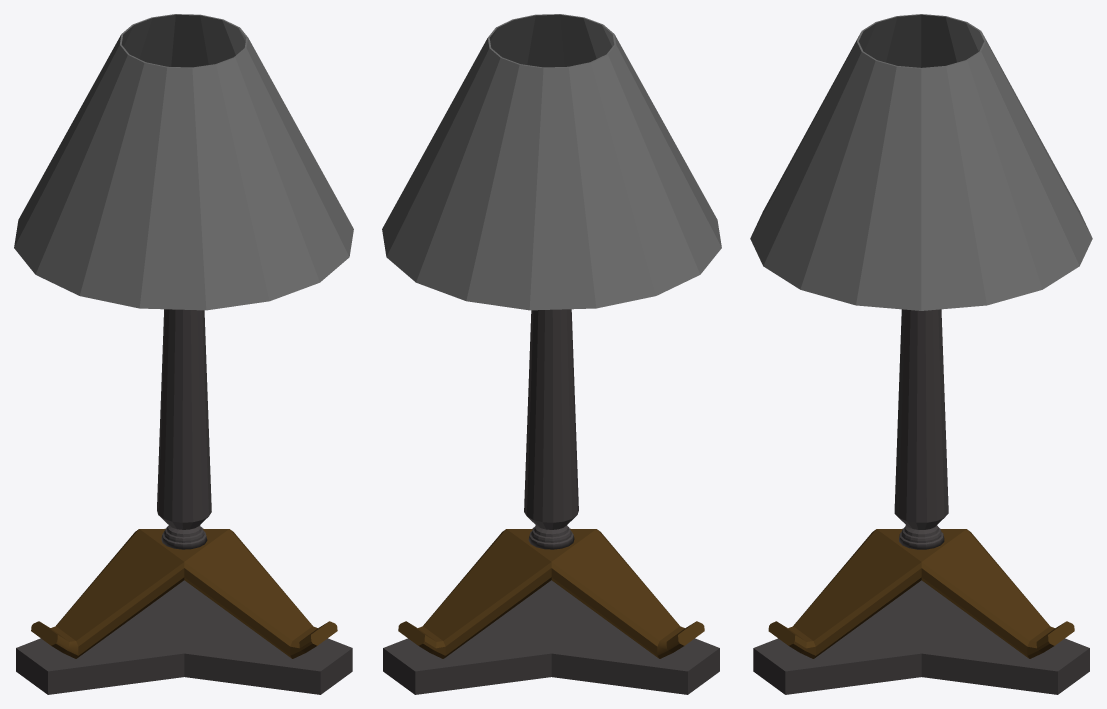
File: SM_TableLamp.fbx
The picture shows the model from 3 angles, left to right: view 1: azimuth 30°, elevation 25°; view 2: azimuth 150°, elevation 25°; view 3: azimuth 270°, elevation 25°; orthographic projection.
Visible parts, largest first — view 1: SM_LampHead_01, SM_LampBase_01, SM_LampBase_02, SM_LampPole_01; view 2: SM_LampHead_01, SM_LampBase_01, SM_LampBase_02, SM_LampPole_01; view 3: SM_LampHead_01, SM_LampBase_01, SM_LampBase_02, SM_LampPole_01.
Part boxes in pixels (<box>): SM_LampHead_01: <box>14,14,353,310</box>; SM_LampBase_01: <box>16,580,352,694</box>; SM_LampBase_02: <box>31,528,337,658</box>; SM_LampPole_01: <box>157,309,211,549</box>; SM_LampHead_01: <box>382,14,721,310</box>; SM_LampBase_01: <box>383,580,719,694</box>; SM_LampBase_02: <box>398,528,704,658</box>; SM_LampPole_01: <box>524,309,578,549</box>; SM_LampHead_01: <box>750,14,1092,310</box>; SM_LampBase_01: <box>753,580,1089,694</box>; SM_LampBase_02: <box>768,528,1074,658</box>; SM_LampPole_01: <box>894,309,948,549</box>.
Size of the model in its own units: 32.32 by 62.21 by 31.95.
